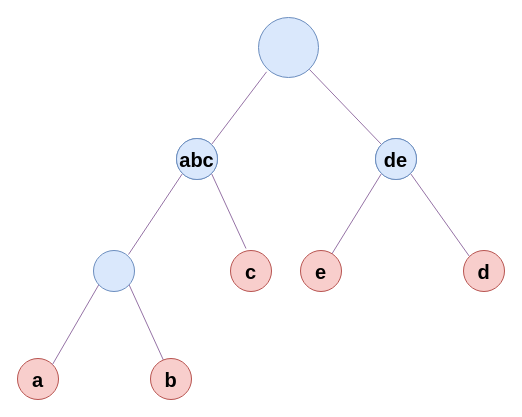
The diagram is 522 pixels wide and 417 high, and some of its shapes have lost their labels. The box of each missing label's shape, as (x1, y1, x2, y2) in pixels:
ab: (92, 250, 134, 292)
abcde: (258, 16, 318, 78)
